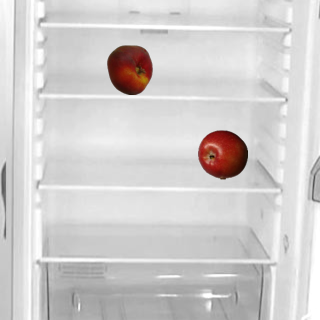Apple Braeburn: (197, 129, 247, 179)
Nectarine Flat: (104, 44, 154, 94)
